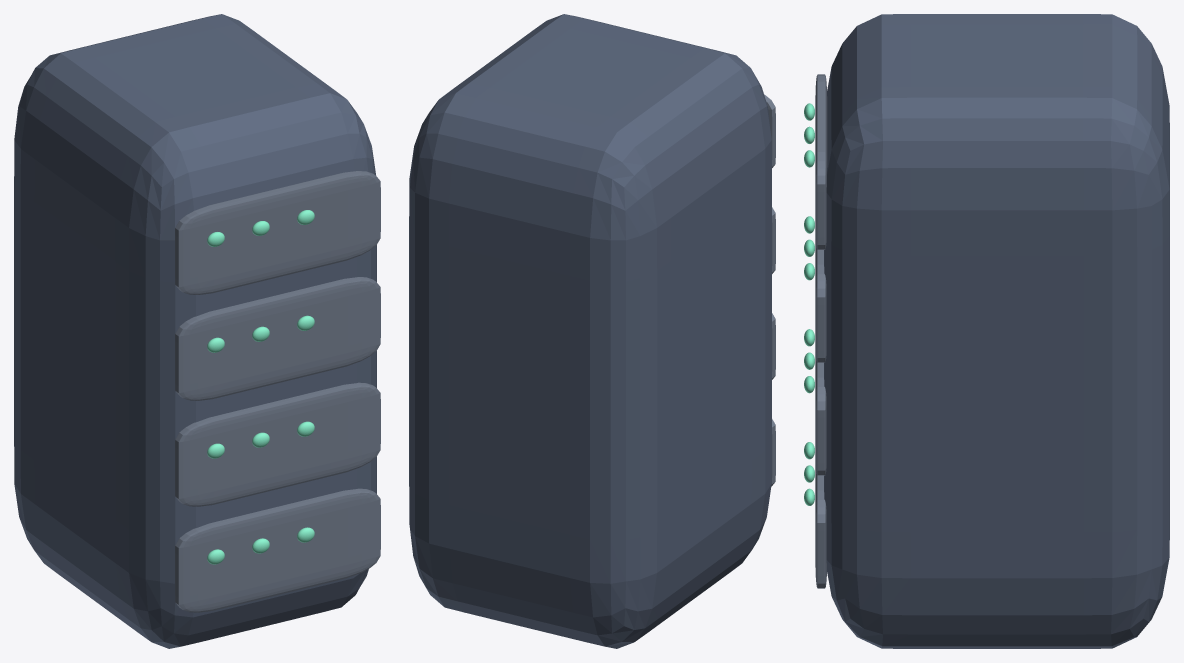
Rendered from server.glb.
3 renders of one model, left to right at view 1: azimuth 30°, elevation 25°; view 2: azimuth 150°, elevation 25°; view 3: azimuth 270°, elevation 25°, orthographic. The views are drawn at different scales.
Visible parts, largest first — view 1: body, unit3, unit0, unit2, unit1; view 2: body; view 3: body, unit3, unit0, unit1, unit2.
Boxes of the visible parts, box(x1,y1,x2,y2) form: body: box(14, 14, 376, 648); unit3: box(175, 171, 380, 294); unit0: box(175, 488, 380, 612); unit2: box(175, 277, 380, 400); unit1: box(175, 382, 380, 506); body: box(409, 14, 771, 648); body: box(824, 14, 1169, 648); unit3: box(815, 74, 827, 249); unit0: box(815, 455, 826, 588); unit1: box(815, 342, 826, 475); unit2: box(815, 229, 826, 362).
Size of the model in its own units: 0.43 by 0.88 by 0.529.
